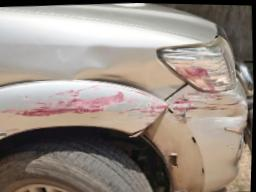Bumper: (164, 73, 252, 192)
Fender: (0, 67, 184, 139)
